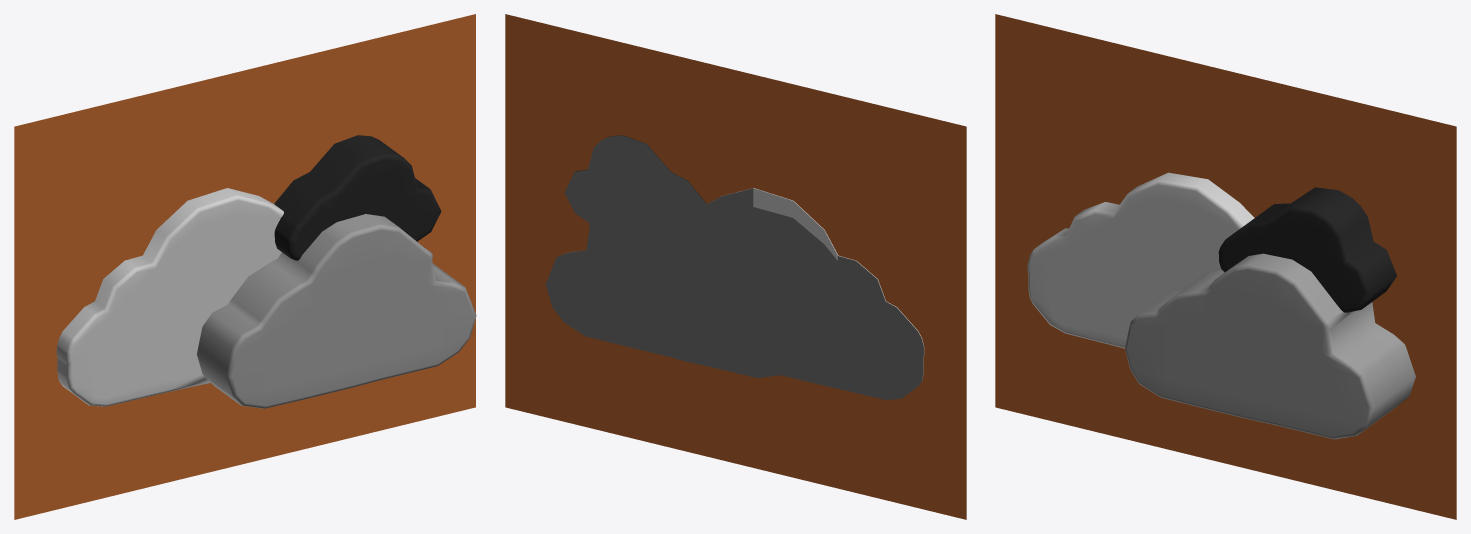
File: clouds.dae
The picture shows the model from 3 angles, left to right: view 1: azimuth 30°, elevation 25°; view 2: azimuth 150°, elevation 25°; view 3: azimuth 330°, elevation 25°; orthographic projection.
Visible parts, largest first — view 1: pPlane2, pCube6; view 2: pPlane2, pCube6; view 3: pPlane2, pCube6.
Boxes of the visible parts, box(x1,y1,x2,y2) form: pPlane2: box(14, 14, 475, 519); pCube6: box(56, 135, 476, 408); pPlane2: box(505, 14, 966, 519); pCube6: box(545, 135, 924, 399); pPlane2: box(995, 14, 1456, 519); pCube6: box(1027, 172, 1415, 439).
Bounding box in the file's own units: 4.8 × 3.91 × 0.7871.
